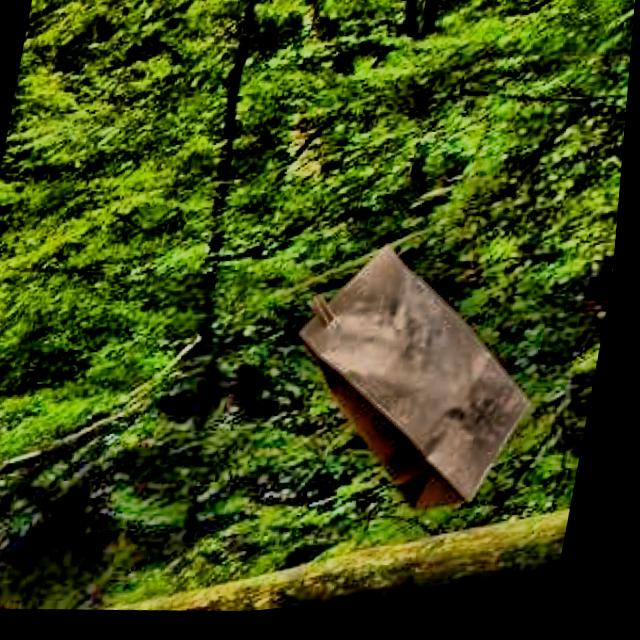Paper-bag: (252, 230, 577, 540)
